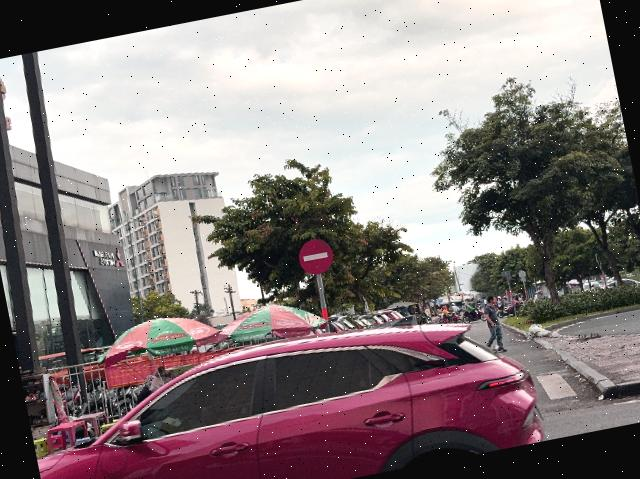cam-di-nguoc-chieu: (296, 235, 336, 276)
